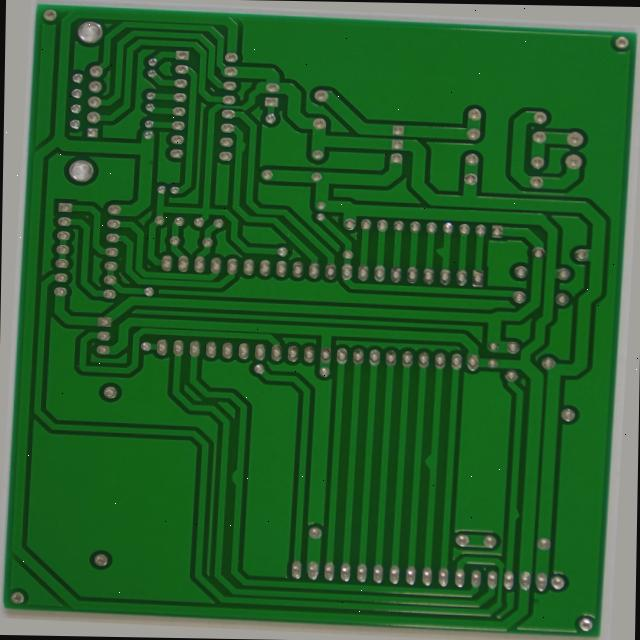spur: (430, 449, 450, 476), (231, 472, 250, 496), (223, 131, 240, 155), (435, 234, 453, 254), (524, 502, 539, 524)
